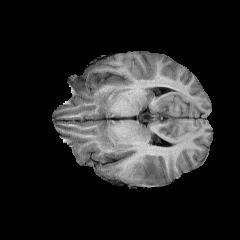glioma: (135, 160, 165, 183)
